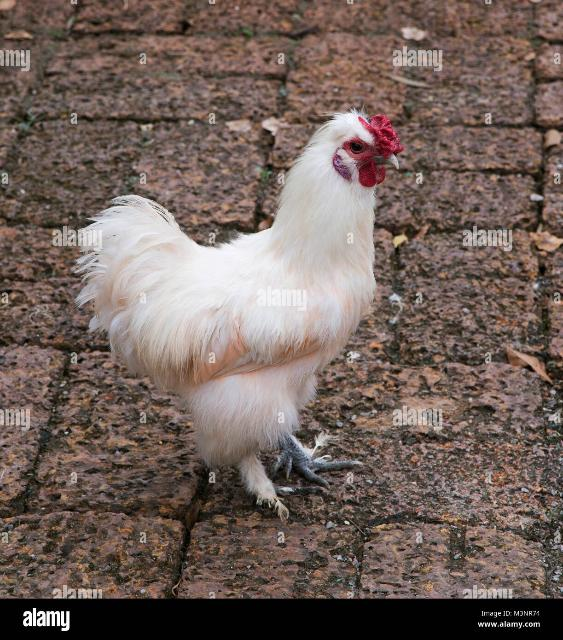Chicken: (71, 114, 401, 511)
